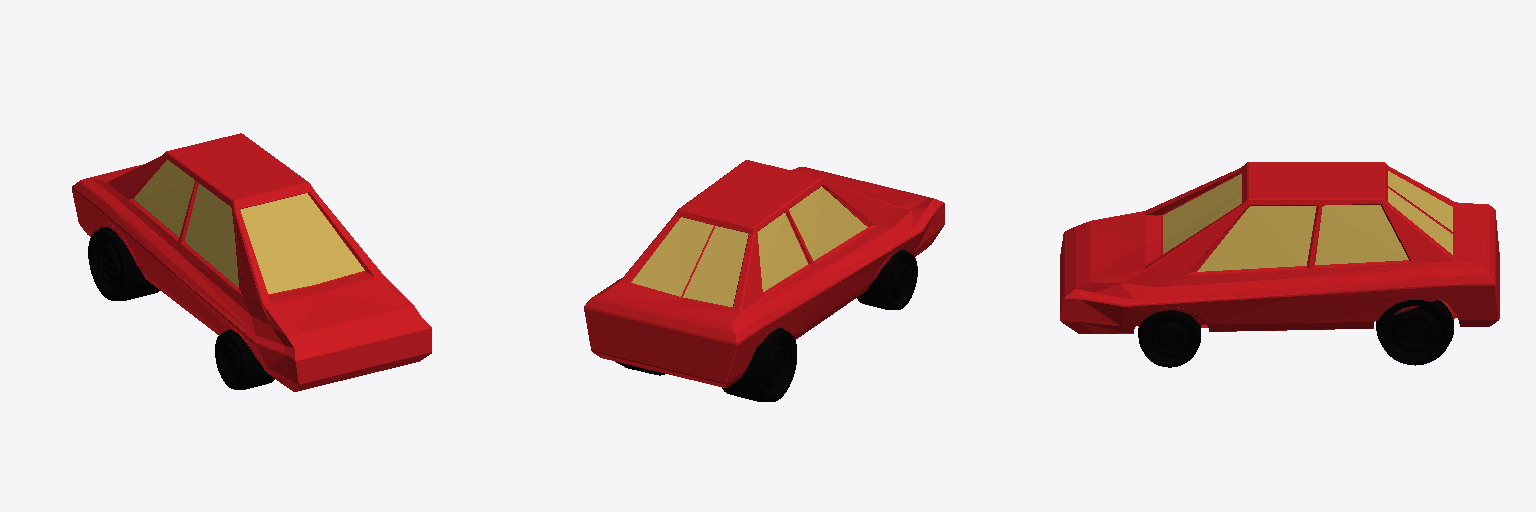
The model's file is Automovil_01.obj.
3 views of the same model, side by side, from view 1: azimuth 30°, elevation 25°; view 2: azimuth 150°, elevation 25°; view 3: azimuth 270°, elevation 25° (orthographic).
Parts seen in each view (by area): view 1: Cube.001_Cube; view 2: Cube.001_Cube; view 3: Cube.001_Cube.
Boxes of the visible parts, x1,y1,x2,y2 form: Cube.001_Cube: [72, 133, 431, 391]; Cube.001_Cube: [584, 160, 944, 401]; Cube.001_Cube: [1060, 162, 1499, 367].
Bounding box in the file's own units: 4.55 × 4.08 × 10.7.